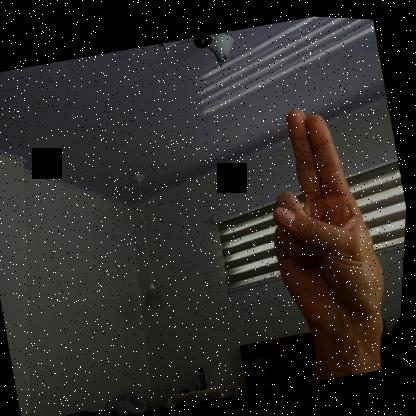U: (243, 88, 409, 354)
